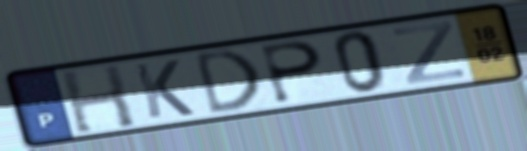0: (331, 29, 392, 96)
D: (191, 46, 263, 118)
H: (57, 62, 140, 136)
K: (130, 57, 198, 121)
P: (258, 39, 326, 106)
Z: (390, 18, 468, 88)
